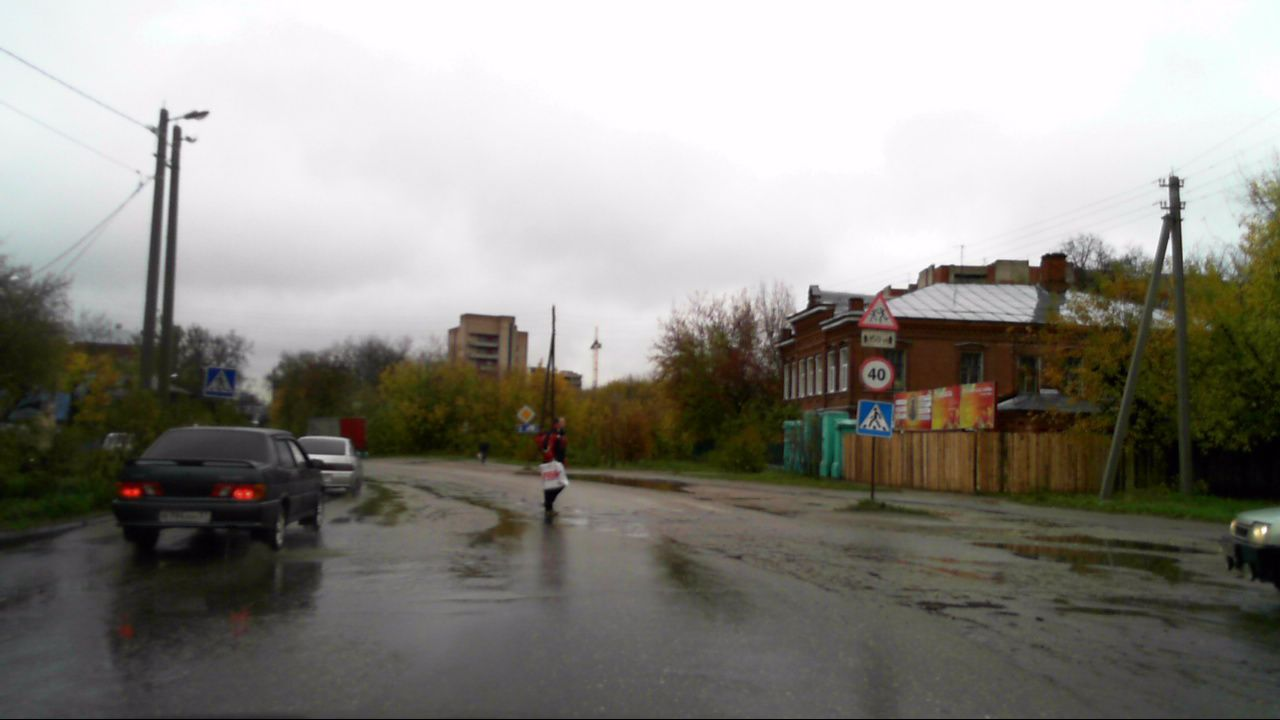speed_warning_40: (859, 359, 892, 391)
